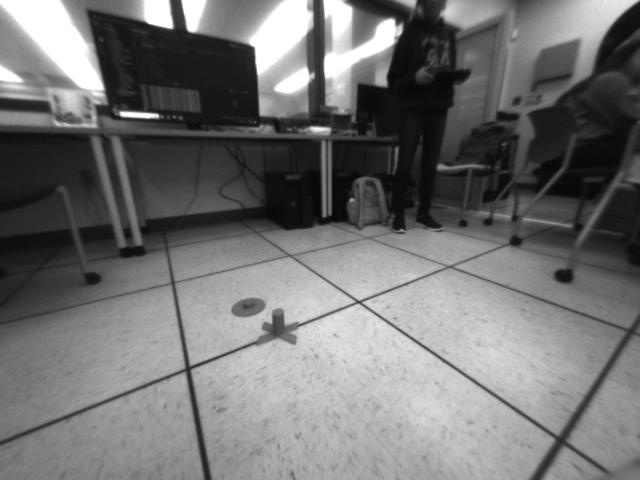X: (255, 308, 301, 346)
